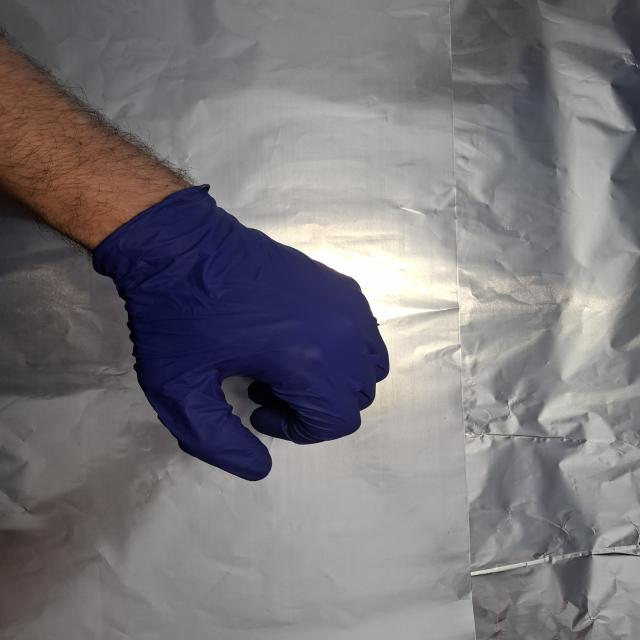glove_on: (87, 185, 395, 484)
